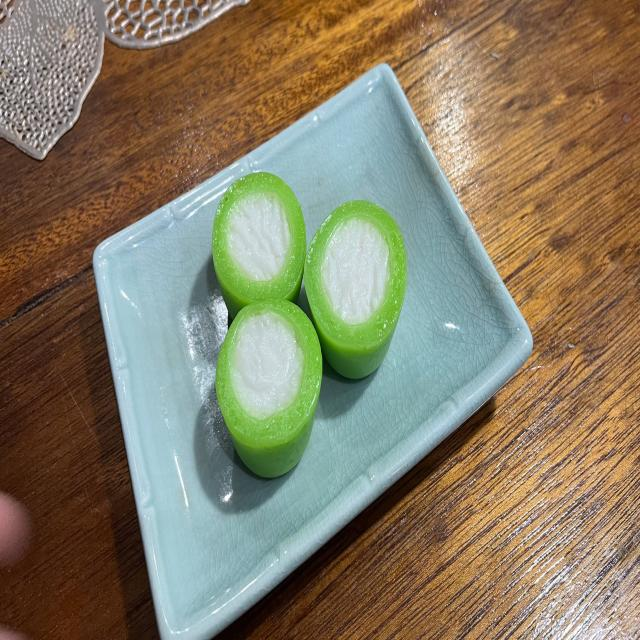nona-manis: (216, 300, 322, 478), (304, 200, 408, 378), (212, 173, 306, 318)
